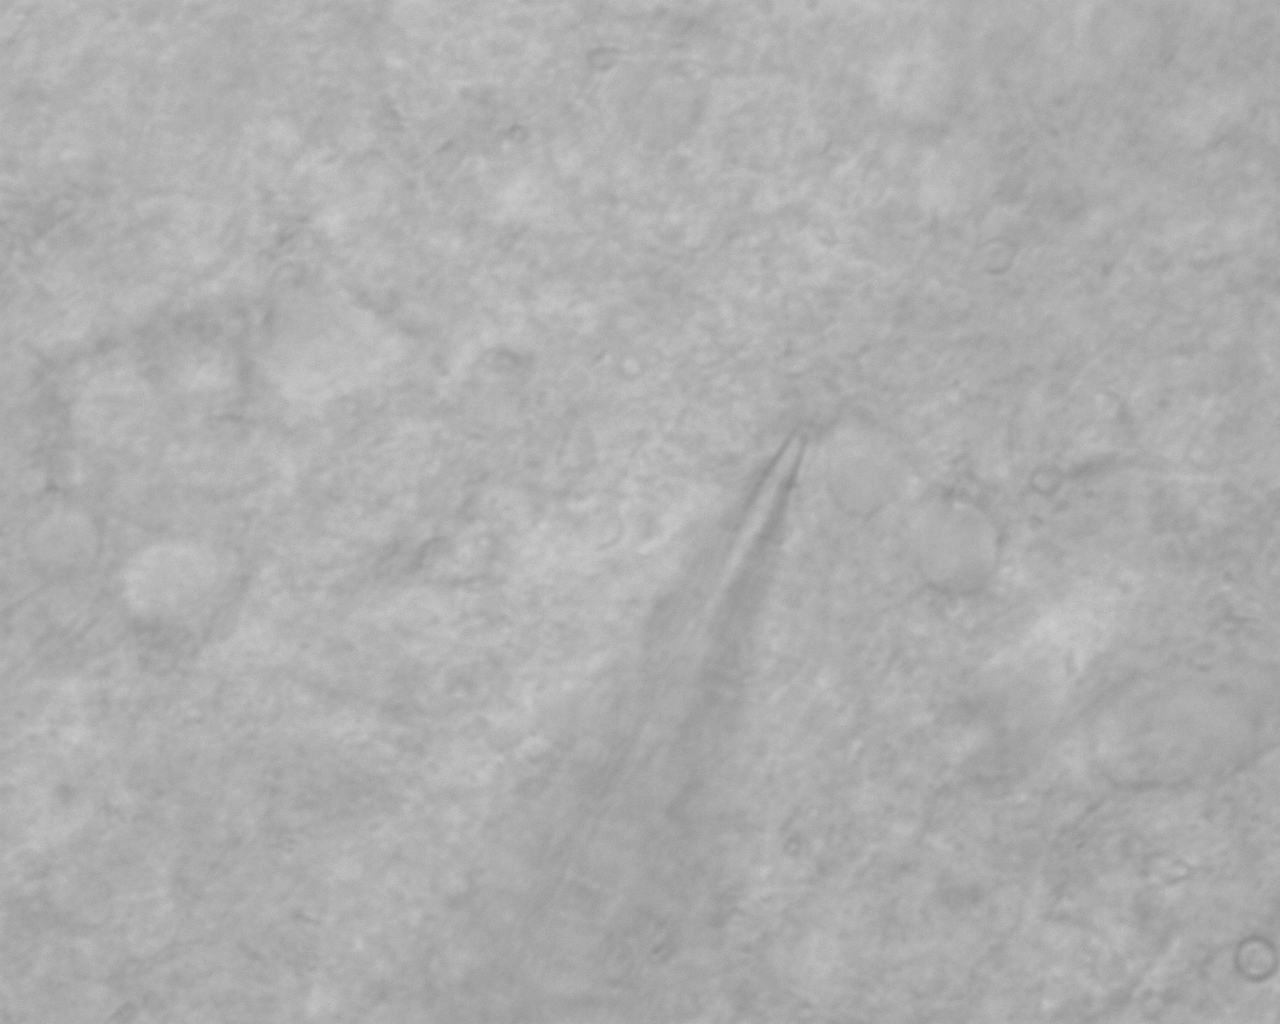neuron: (231, 267, 437, 423), (1063, 661, 1280, 801), (106, 536, 260, 648), (890, 492, 1022, 605), (816, 419, 923, 520)
